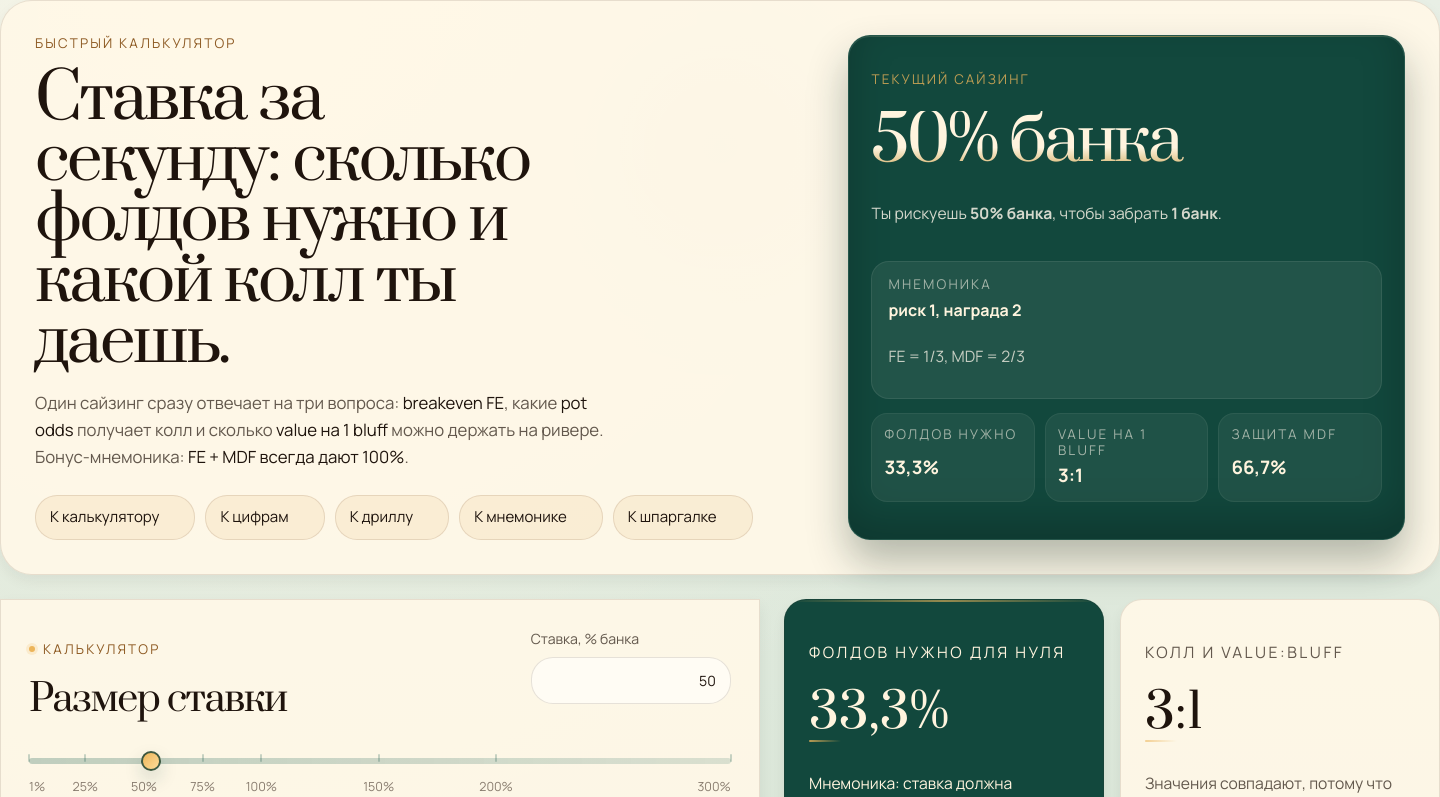
Test: QuickMode › keeps the bet input in sync with slider updates while focused
Replace the text in the field named "Bet size percent" with "140" at point(631, 680), box [531,657,731,704]
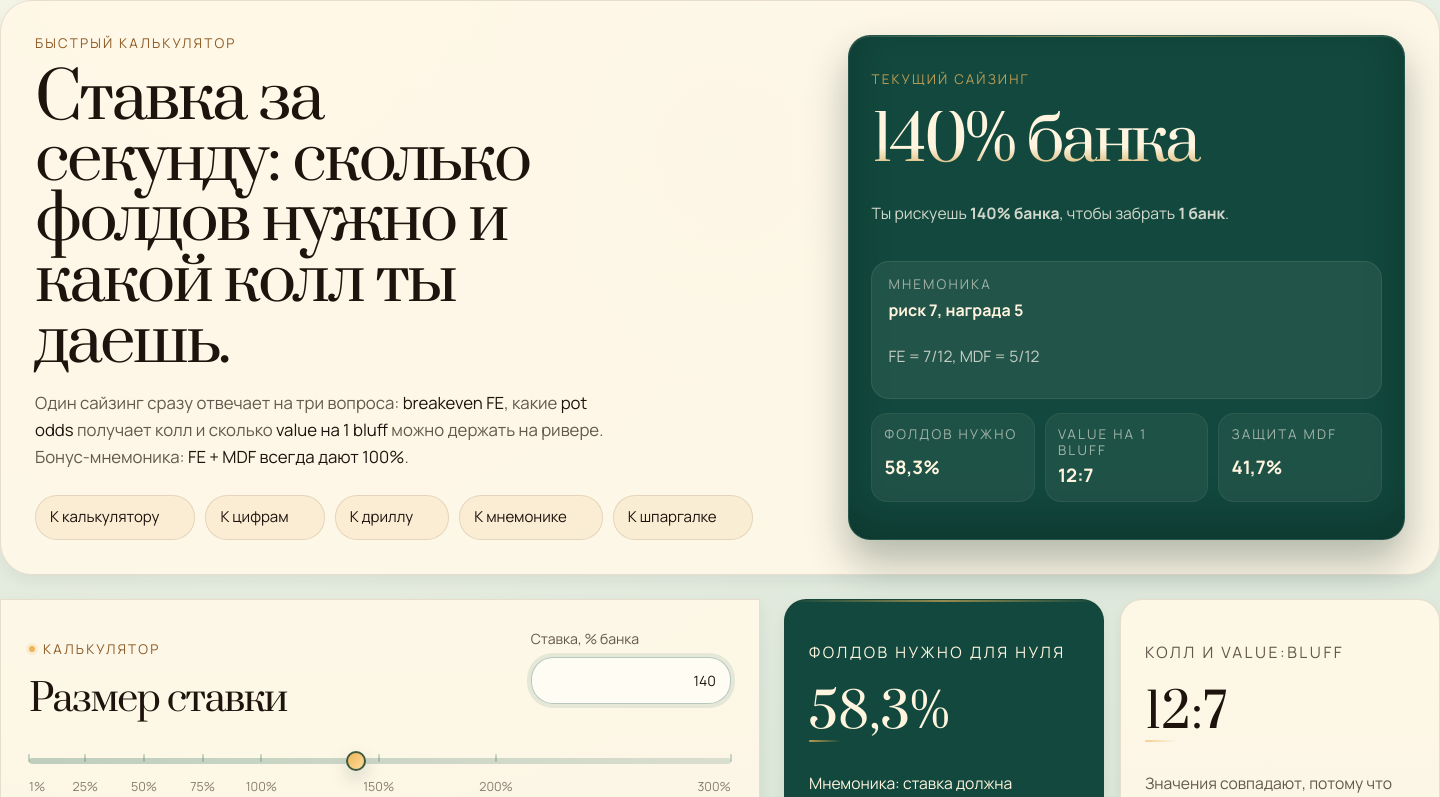
Set the slider named "Bet size slider" to "100" at point(264, 761), box [29,758,731,764]
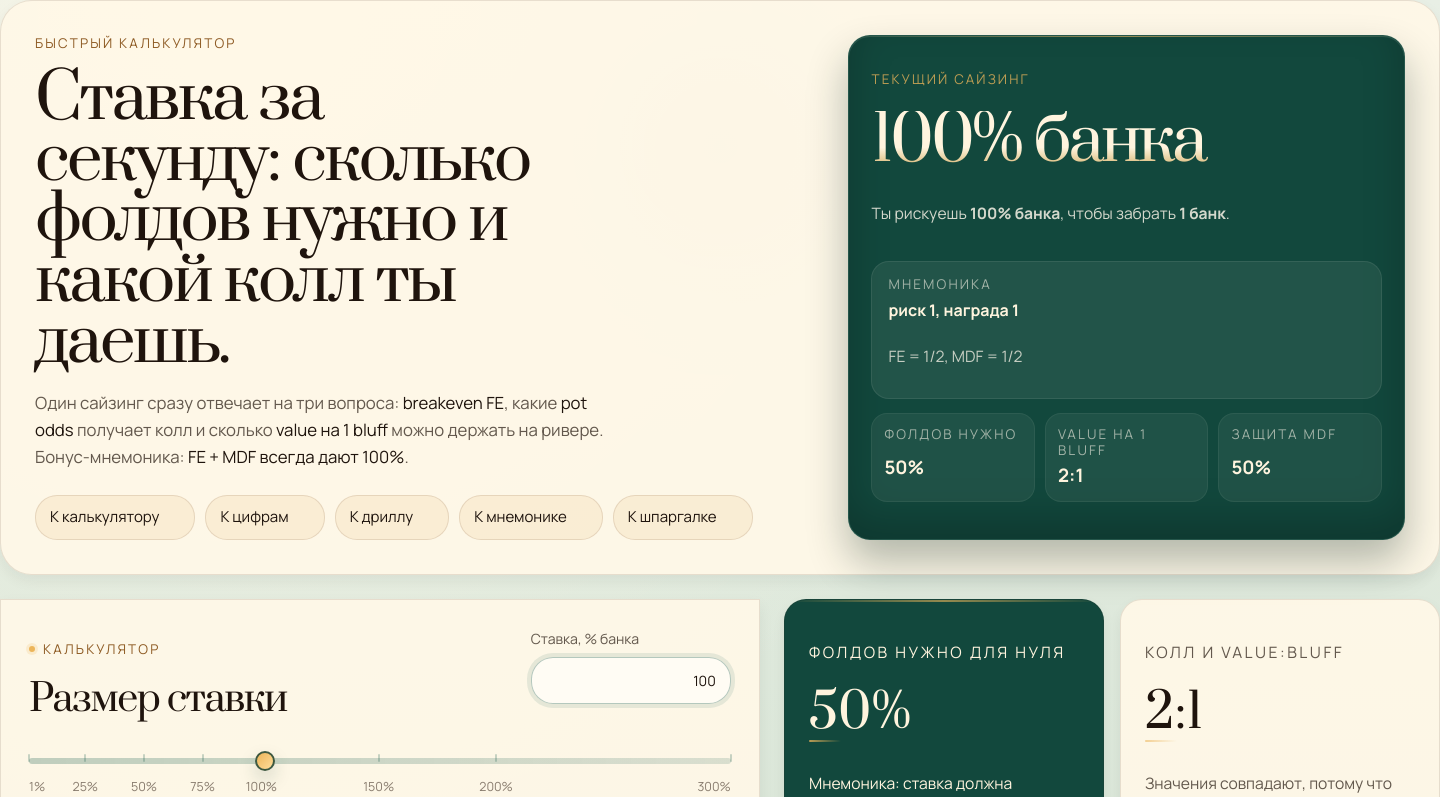
Now the field named "Bet size percent" holds "100", box [531,657,731,704]
